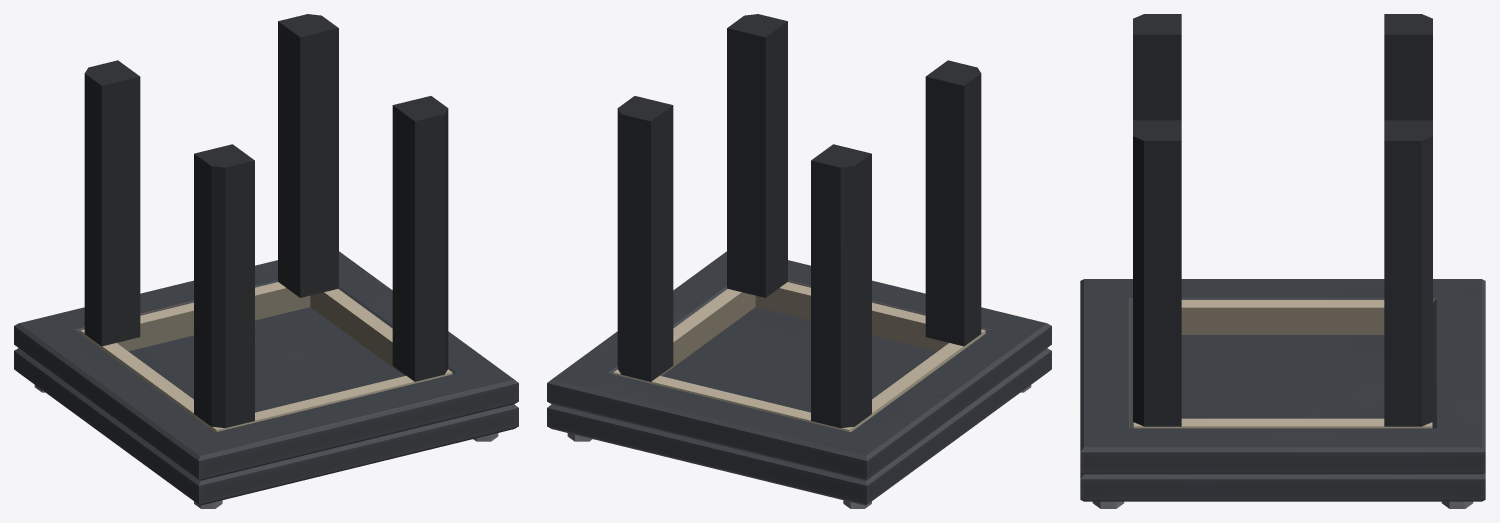
File: end_pipe_up.obj
3 views of the same model, side by side, from view 1: azimuth 30°, elevation 25°; view 2: azimuth 150°, elevation 25°; view 3: azimuth 270°, elevation 25° (orthographic). The views are drawn at different scales.
Parts seen in each view (by area): view 1: end_pipe_rails, end_pipe_flange, end_pipe_blind, end_pipe_flange_lining; view 2: end_pipe_rails, end_pipe_flange, end_pipe_blind, end_pipe_flange_lining; view 3: end_pipe_rails, end_pipe_flange, end_pipe_blind, end_pipe_flange_lining.
Part boxes in pixels (<box>): end_pipe_rails: <box>84,14,448,428</box>; end_pipe_flange: <box>14,251,518,480</box>; end_pipe_blind: <box>14,307,518,505</box>; end_pipe_flange_lining: <box>80,282,452,432</box>; end_pipe_rails: <box>617,14,981,428</box>; end_pipe_flange: <box>547,251,1051,480</box>; end_pipe_blind: <box>547,307,1051,505</box>; end_pipe_flange_lining: <box>613,282,985,432</box>; end_pipe_rails: <box>1133,14,1432,426</box>; end_pipe_flange: <box>1080,279,1485,474</box>; end_pipe_blind: <box>1080,335,1485,501</box>; end_pipe_flange_lining: <box>1133,300,1432,428</box>.
Size of the model in its own units: 0.675 by 0.6469 by 0.675.
